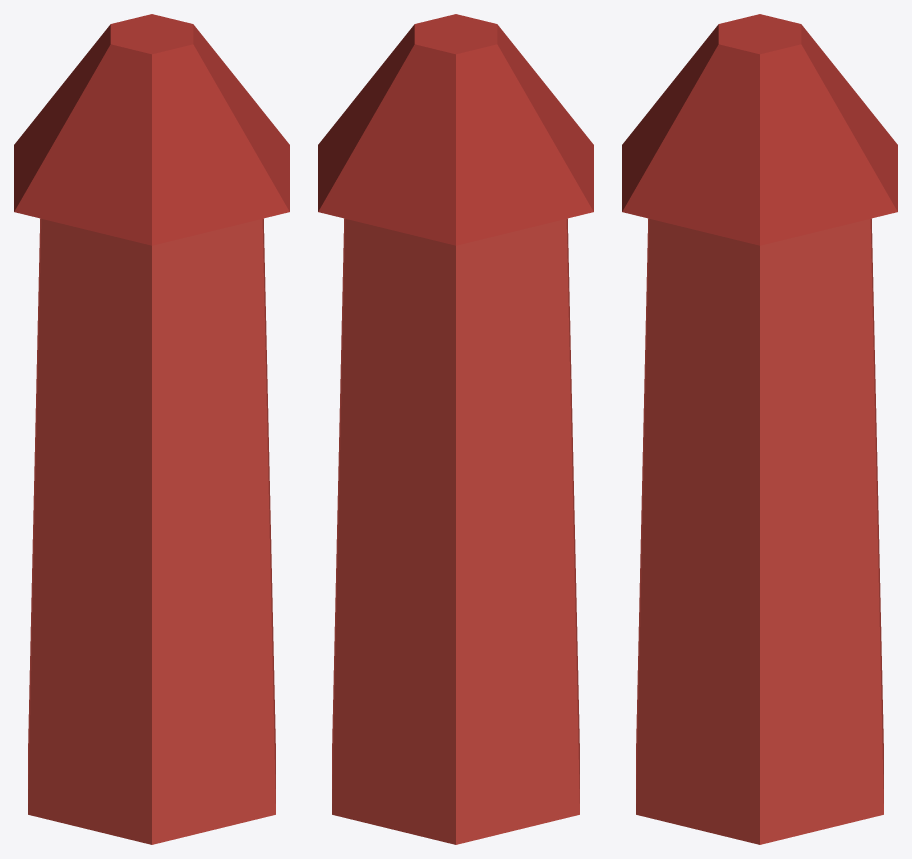
The model's file is P_Hydrant.fbx.
3 renders of one model, left to right at view 1: azimuth 30°, elevation 25°; view 2: azimuth 150°, elevation 25°; view 3: azimuth 270°, elevation 25°, orthographic.
Parts seen in each view (by area): view 1: P_Hydrant.002; view 2: P_Hydrant.002; view 3: P_Hydrant.002.
Boxes of the visible parts, x1,y1,x2,y2 form: P_Hydrant.002: [14, 14, 289, 844]; P_Hydrant.002: [318, 14, 593, 844]; P_Hydrant.002: [622, 14, 897, 844].
Bounding box in the file's own units: 0.2 × 0.52 × 0.1732.
